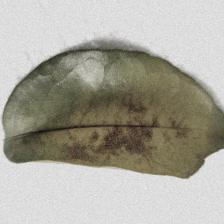canker: (45, 86, 188, 169)
